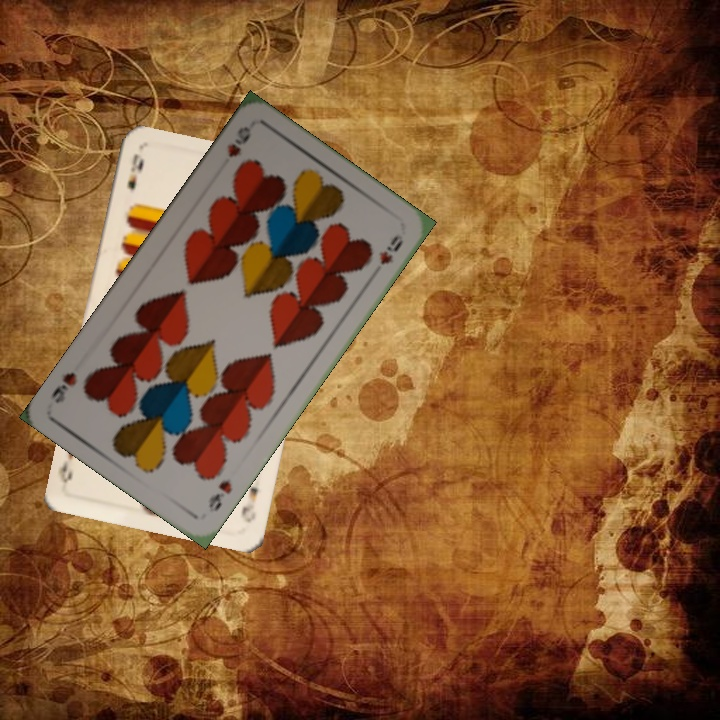E9: (237, 482, 261, 526), (123, 150, 147, 193)
H9: (204, 474, 235, 516), (223, 122, 254, 161)
